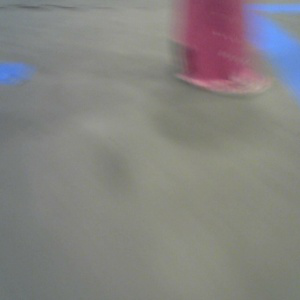right: (173, 1, 273, 97)
